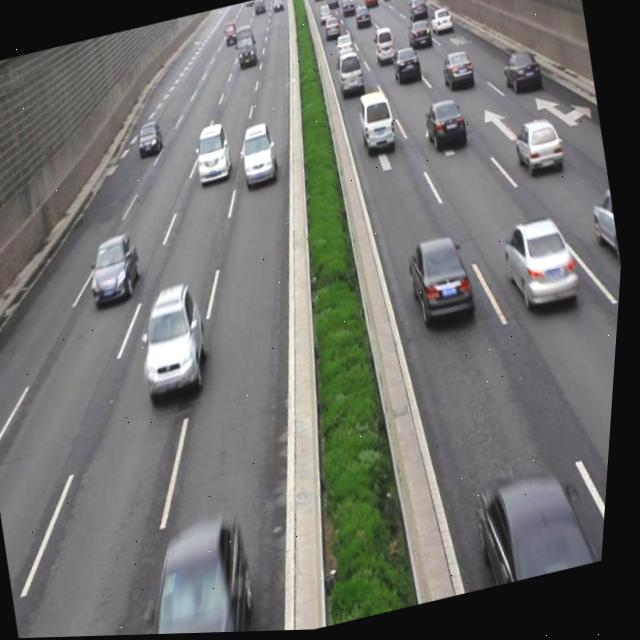car: (472, 468, 602, 589), (141, 516, 269, 636), (133, 285, 220, 403), (498, 214, 587, 320), (401, 230, 485, 338), (83, 234, 151, 306), (510, 117, 567, 181), (586, 189, 628, 270), (353, 90, 401, 159), (190, 123, 240, 187), (236, 122, 283, 189), (419, 97, 470, 158), (499, 50, 546, 102), (332, 53, 367, 101), (438, 52, 476, 92), (389, 49, 422, 88), (135, 119, 167, 158)
